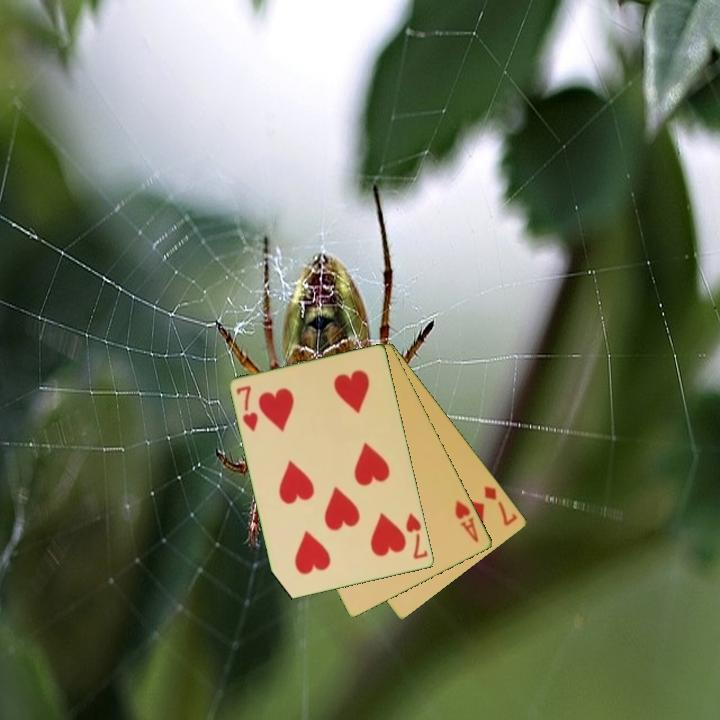7d: (481, 482, 521, 529)
7h: (402, 509, 431, 562), (233, 382, 262, 435)
Ah: (451, 497, 482, 546)
